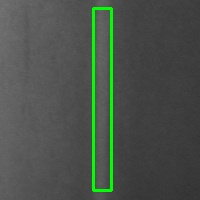scratches: (93, 8, 111, 190)
